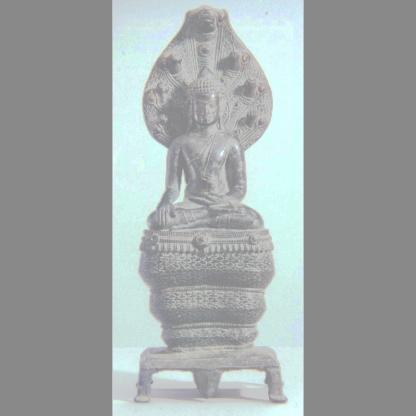buddha-sitting: (138, 64, 281, 347)
